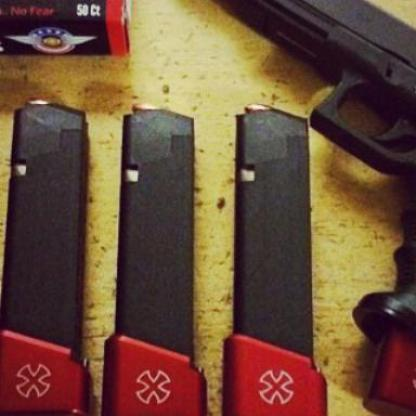gun: (166, 0, 415, 415)
